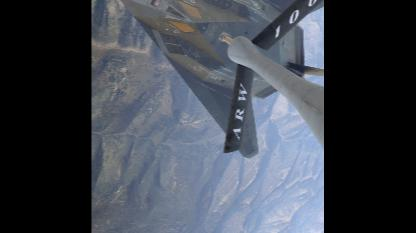E7: (93, 0, 325, 158)
